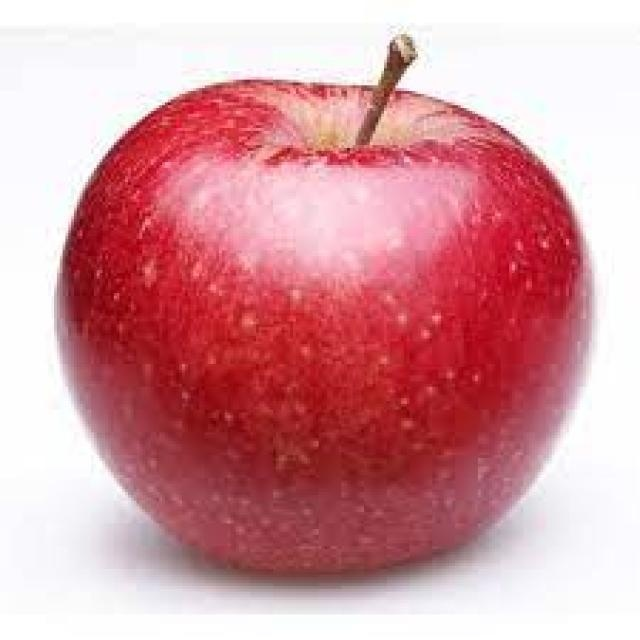agrume: (38, 56, 608, 604)
